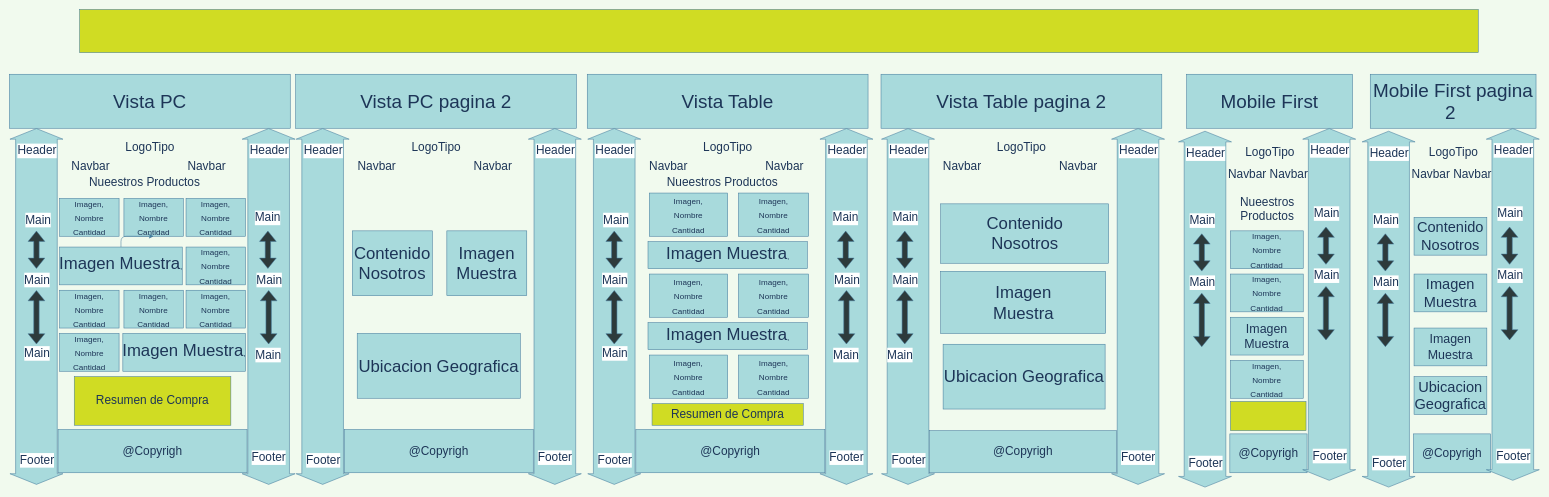
This 1549x497 diagram has some shape labels left out. The shapes that lost their labels are listed below. From the top down, each one's box as (x1, y1, x2, y2) in pixels, then its label:
(79, 9, 1478, 53): Proyecto Sobre Una Tienda Virtual
(1230, 401, 1306, 431): Resumen Compra
